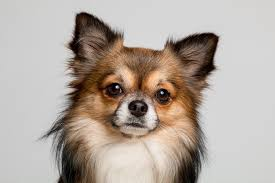Bulldog: (37, 4, 218, 182)
